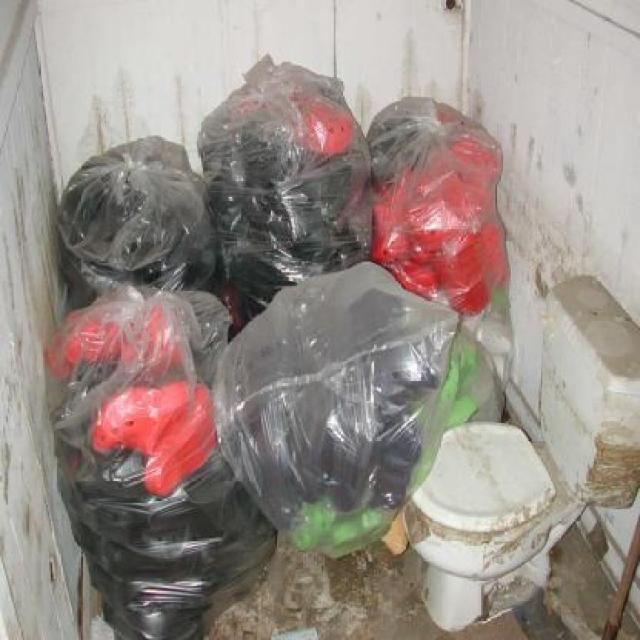plastic bag: (43, 52, 517, 638), (54, 146, 214, 306)
